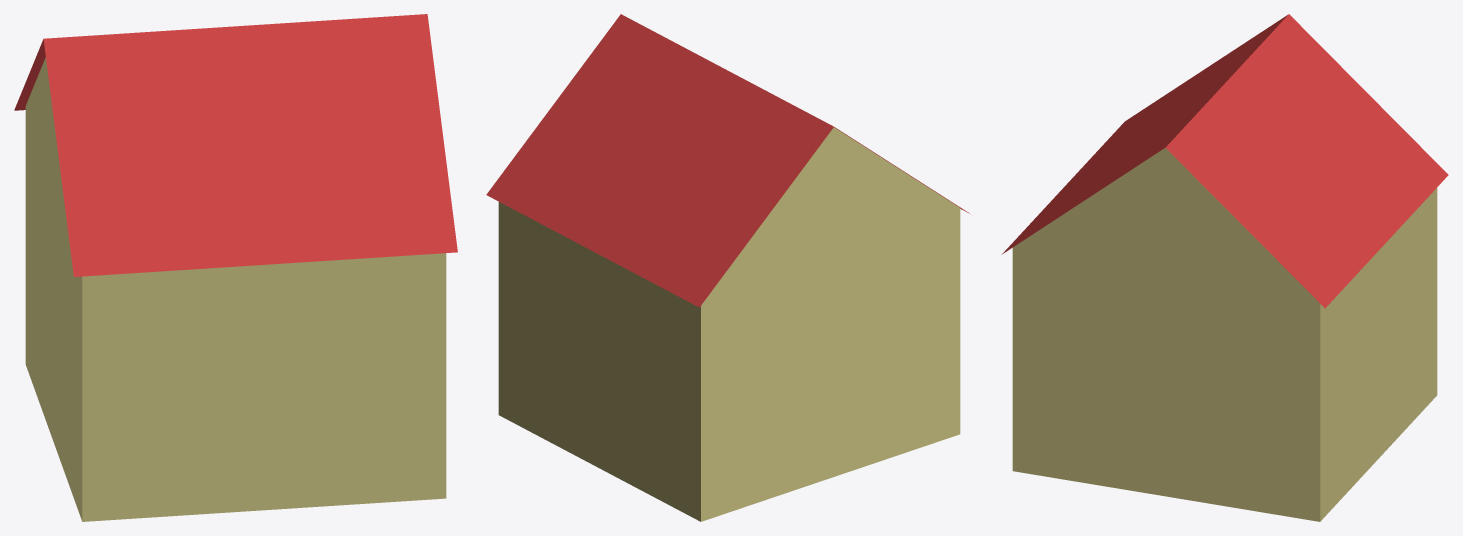
3 views of the same model, side by side, from view 1: azimuth 30°, elevation 25°; view 2: azimuth 150°, elevation 25°; view 3: azimuth 270°, elevation 25° (orthographic). The views are drawn at different scales.
Bounding box in the file's own units: 12.53 × 12.66 × 11.02.
